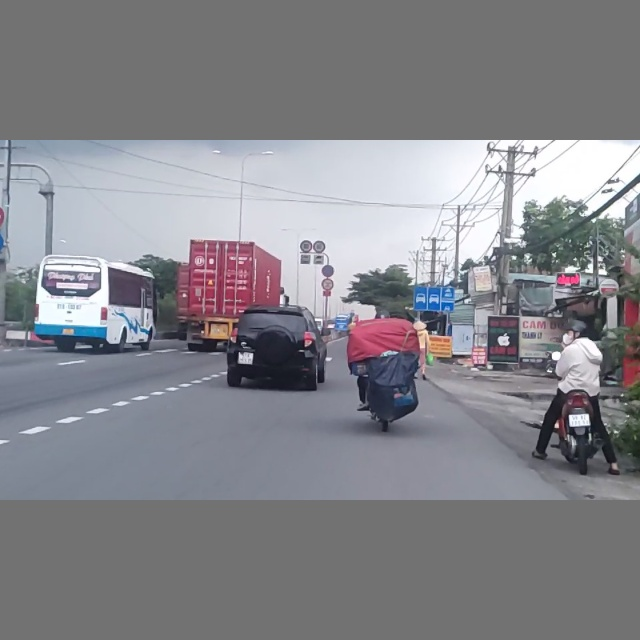P.130: (321, 264, 335, 277)
R.415a: (413, 285, 455, 312)
